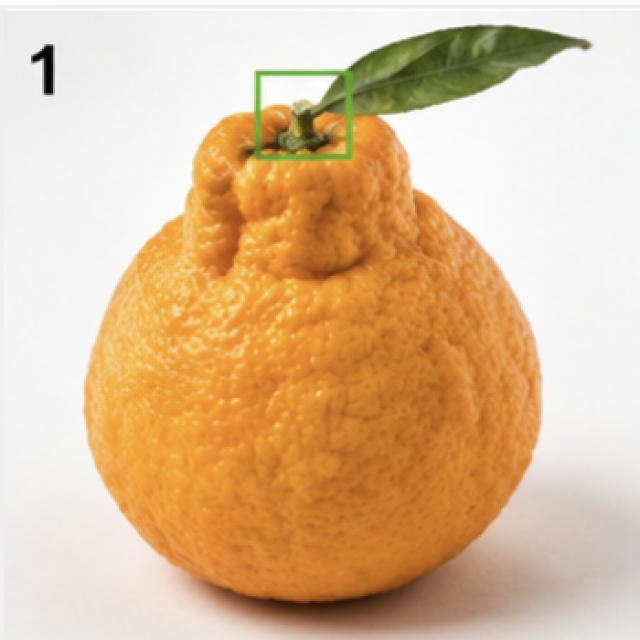Fruit-Stem-Detection: (256, 71, 347, 150)
